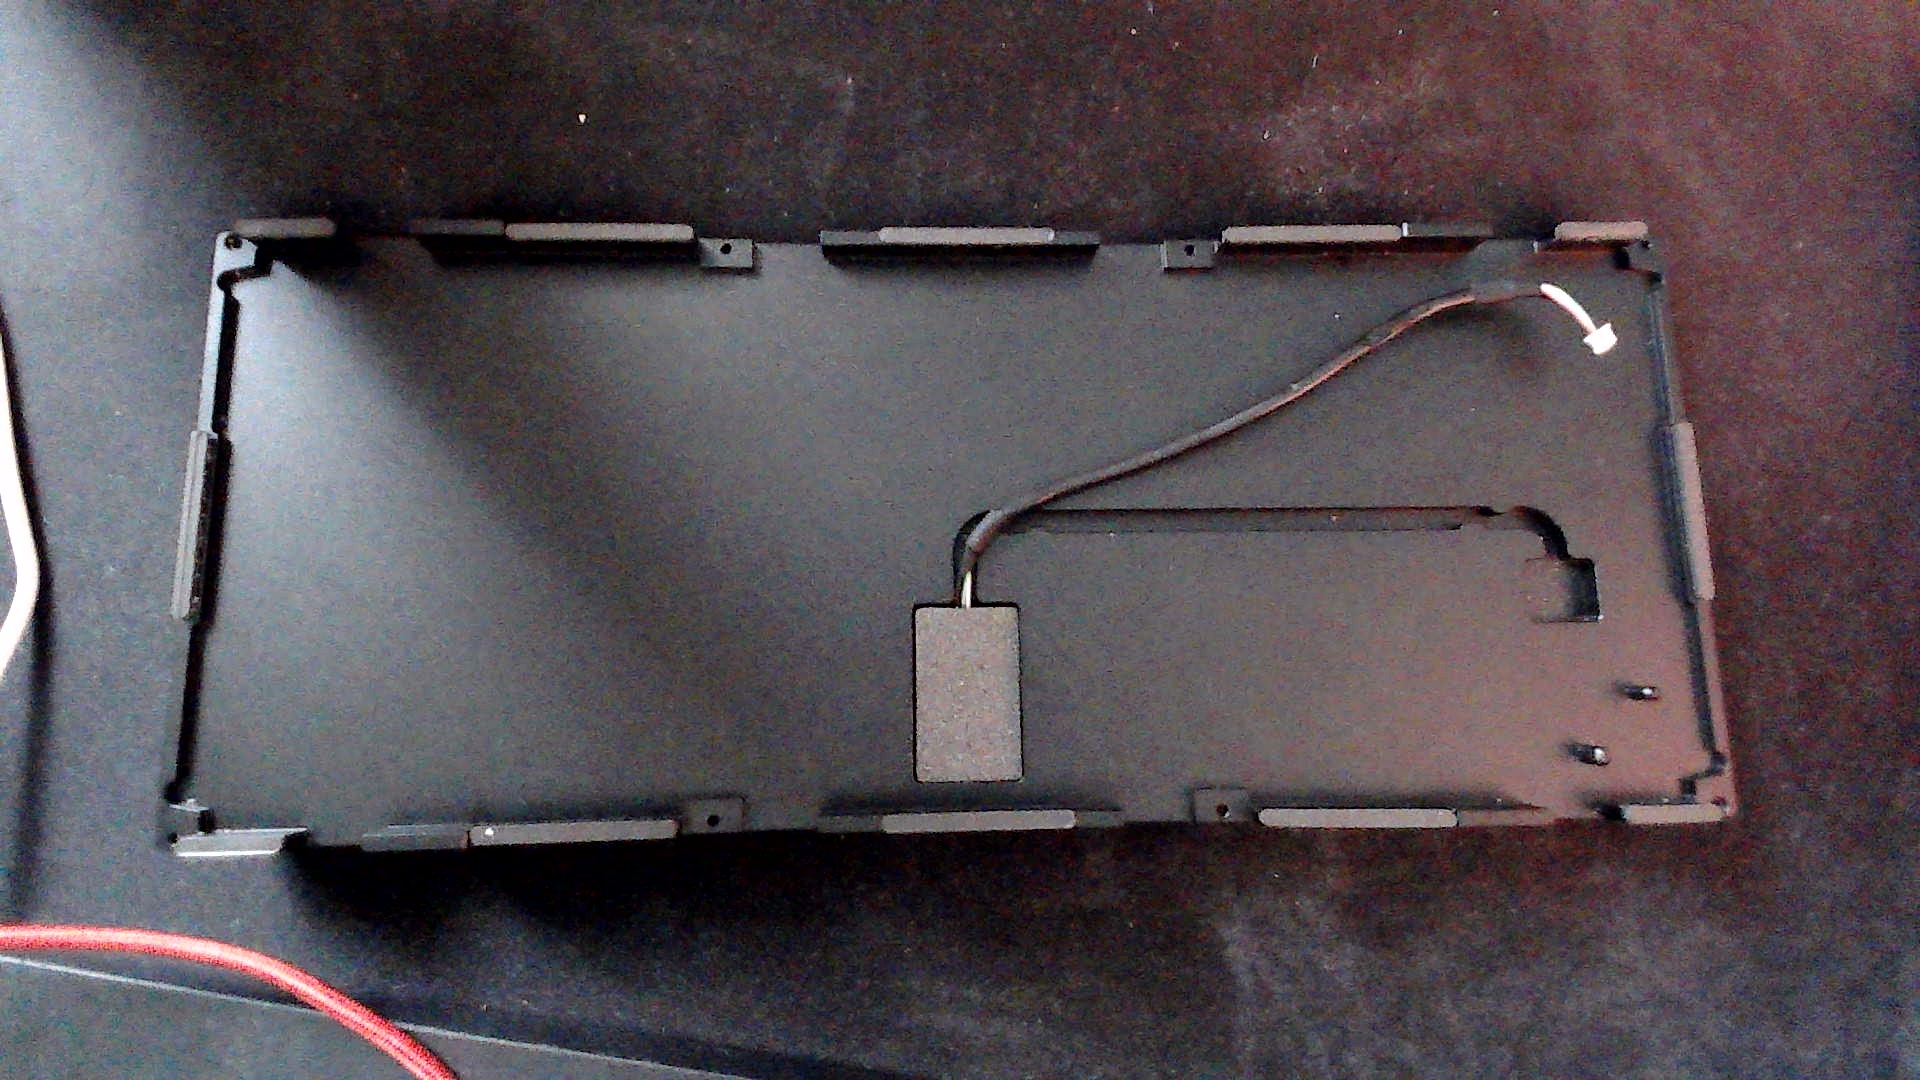case: (145, 174, 1746, 889)
